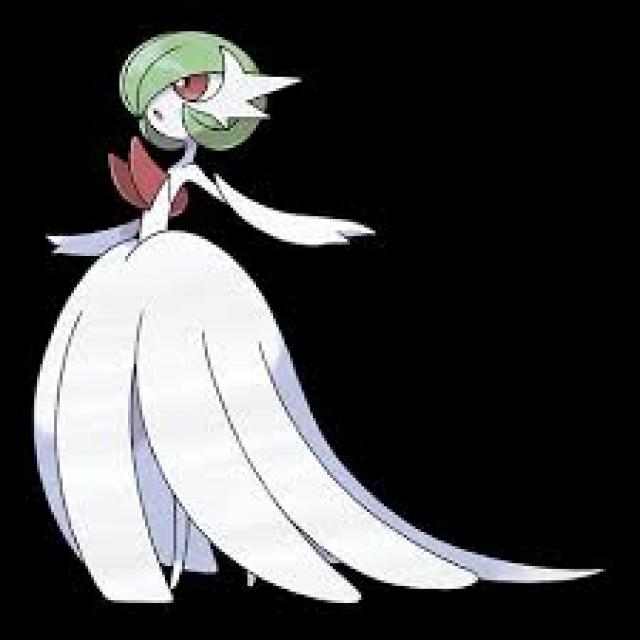gardevoir: (36, 30, 610, 601)
